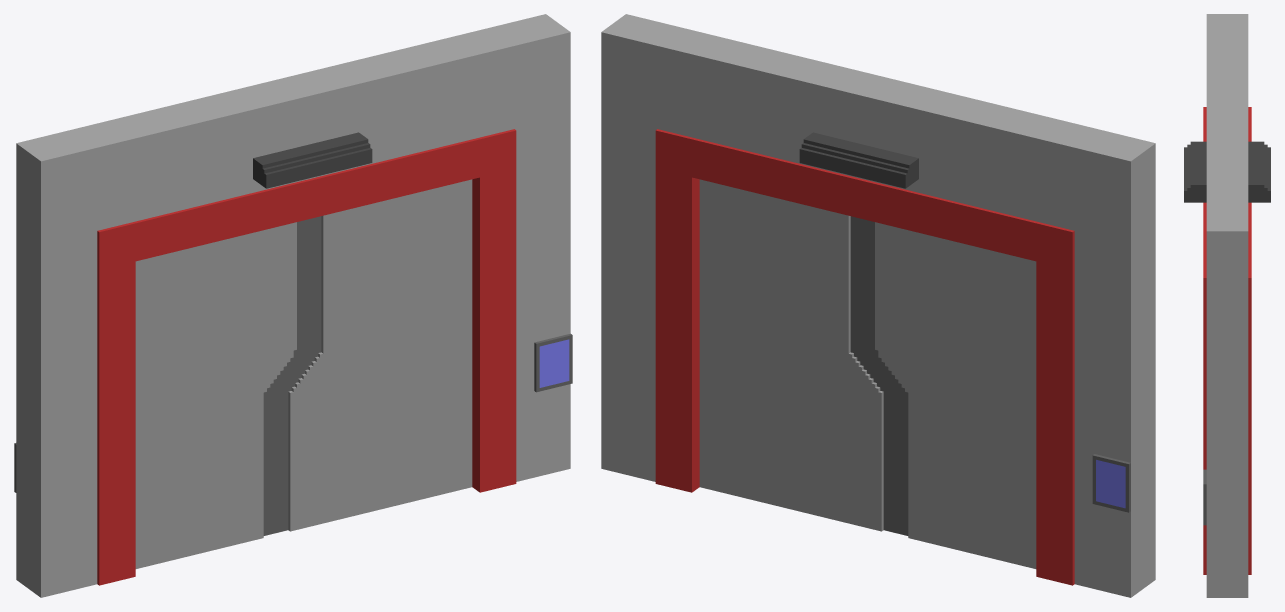
The model's file is Operating_room_Door3-2-1.fbx.
3 renders of one model, left to right at view 1: azimuth 30°, elevation 25°; view 2: azimuth 150°, elevation 25°; view 3: azimuth 270°, elevation 25°, orthographic. The views are drawn at different scales.
Visible parts, largest first — view 1: Operating room Door3-2-1.003, Operating room Door3-2-1.008, Operating room Door3-2-1.002, Operating room Door3-2-1.001, Operating room Door3-2-1.009, Operating room Door3-2-1.014; view 2: Operating room Door3-2-1.003, Operating room Door3-2-1.008, Operating room Door3-2-1.002, Operating room Door3-2-1.001, Operating room Door3-2-1.009, Operating room Door3-2-1.007; view 3: Operating room Door3-2-1.009, Operating room Door3-2-1.003, Operating room Door3-2-1.001.
Part boxes in pixels (bbox=[...]): Operating room Door3-2-1.003: bbox=[73, 28, 516, 585]; Operating room Door3-2-1.008: bbox=[275, 179, 472, 533]; Operating room Door3-2-1.002: bbox=[135, 219, 308, 568]; Operating room Door3-2-1.001: bbox=[14, 129, 97, 597]; Operating room Door3-2-1.009: bbox=[490, 14, 572, 481]; Operating room Door3-2-1.014: bbox=[539, 339, 569, 387]; Operating room Door3-2-1.003: bbox=[655, 28, 1098, 585]; Operating room Door3-2-1.008: bbox=[699, 179, 896, 533]; Operating room Door3-2-1.002: bbox=[863, 219, 1036, 568]; Operating room Door3-2-1.001: bbox=[1074, 129, 1155, 597]; Operating room Door3-2-1.009: bbox=[601, 14, 681, 481]; Operating room Door3-2-1.007: bbox=[1096, 459, 1125, 508]; Operating room Door3-2-1.009: bbox=[1203, 208, 1248, 597]; Operating room Door3-2-1.003: bbox=[1184, 37, 1270, 574]; Operating room Door3-2-1.001: bbox=[1206, 14, 1248, 36].
Size of the model in its own units: 16 by 12.6 by 2.7.
